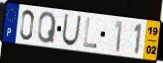0: (19, 9, 35, 42)
1: (114, 20, 124, 54), (133, 22, 143, 55)
L: (82, 17, 98, 50)
Q: (37, 11, 58, 45)
U: (61, 13, 83, 47)
